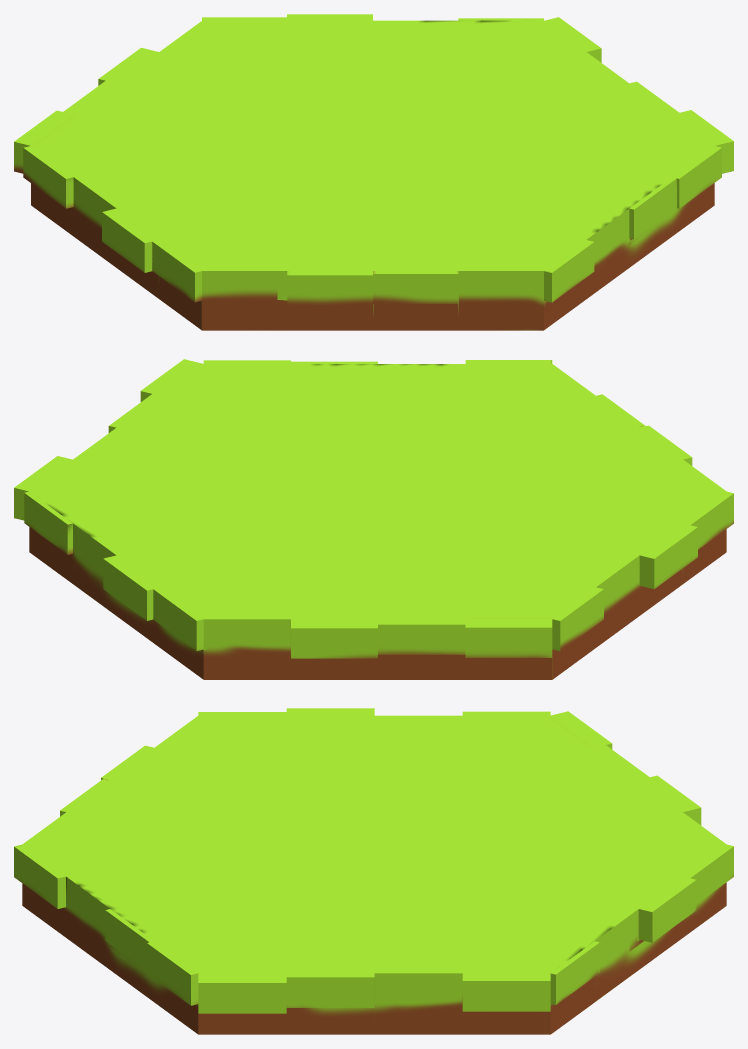
Rendered from Hex.glb.
3 renders of one model, top to bottom at view 1: azimuth 30°, elevation 25°; view 2: azimuth 150°, elevation 25°; view 3: azimuth 270°, elevation 25°, orthographic. The views are drawn at different scales.
Parts seen in each view (by area): view 1: Circle; view 2: Circle; view 3: Circle.
Part boxes in pixels (x1,y1,x2,y2): Circle: (14,14,733,330); Circle: (14,359,733,679); Circle: (14,708,733,1034).
Bounding box in the file's own units: 5.54 × 0.5761 × 6.13.
Materials: 1 (1 with a texture image).
